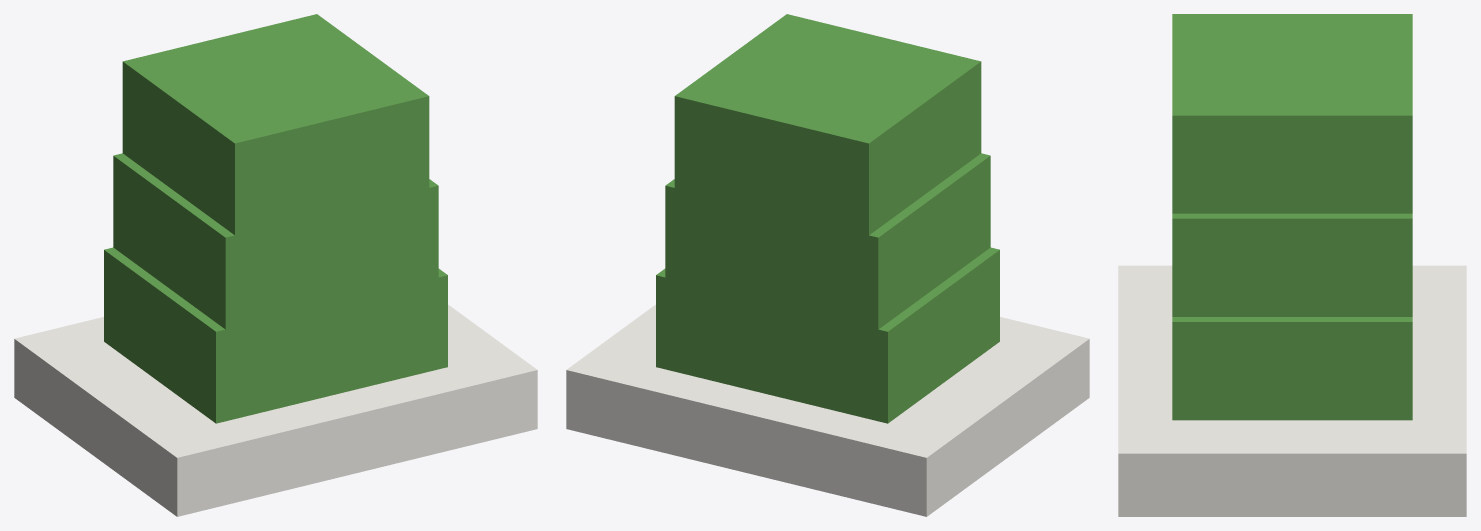
File: indoor_garden-lv3.glb
3 views of the same model, side by side, from view 1: azimuth 30°, elevation 25°; view 2: azimuth 150°, elevation 25°; view 3: azimuth 270°, elevation 25° (orthographic). The views are drawn at different scales.
Visible parts, largest first — view 1: Base, Level3, Level1, Level2; view 2: Base, Level3, Level1, Level2; view 3: Base, Level3, Level1, Level2.
Part boxes in pixels (bbox=[...]): Base: bbox=[14, 304, 537, 516]; Level3: bbox=[122, 14, 429, 235]; Level1: bbox=[104, 247, 447, 423]; Level2: bbox=[113, 153, 438, 329]; Base: bbox=[566, 304, 1089, 516]; Level3: bbox=[674, 14, 981, 235]; Level1: bbox=[656, 247, 999, 423]; Level2: bbox=[665, 153, 990, 329]; Base: bbox=[1118, 265, 1466, 516]; Level3: bbox=[1172, 14, 1412, 213]; Level1: bbox=[1172, 317, 1412, 420]; Level2: bbox=[1172, 213, 1412, 316].
Bounding box in the file's own units: 1.15 × 1.02 × 0.9.
